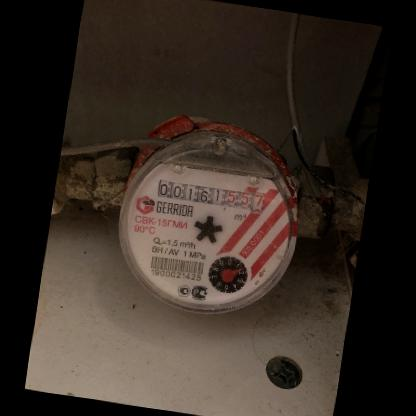digital_screen: (153, 174, 228, 209)
